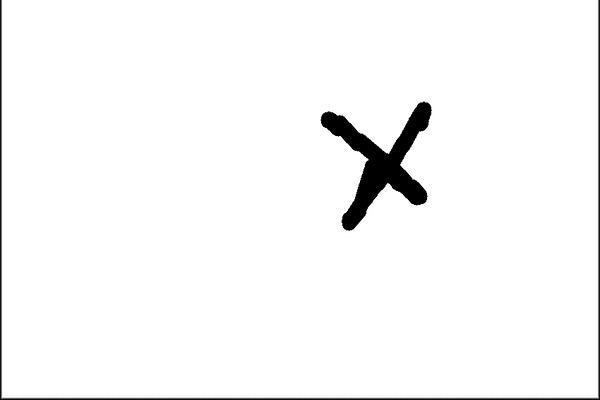X: (295, 86, 455, 240)
